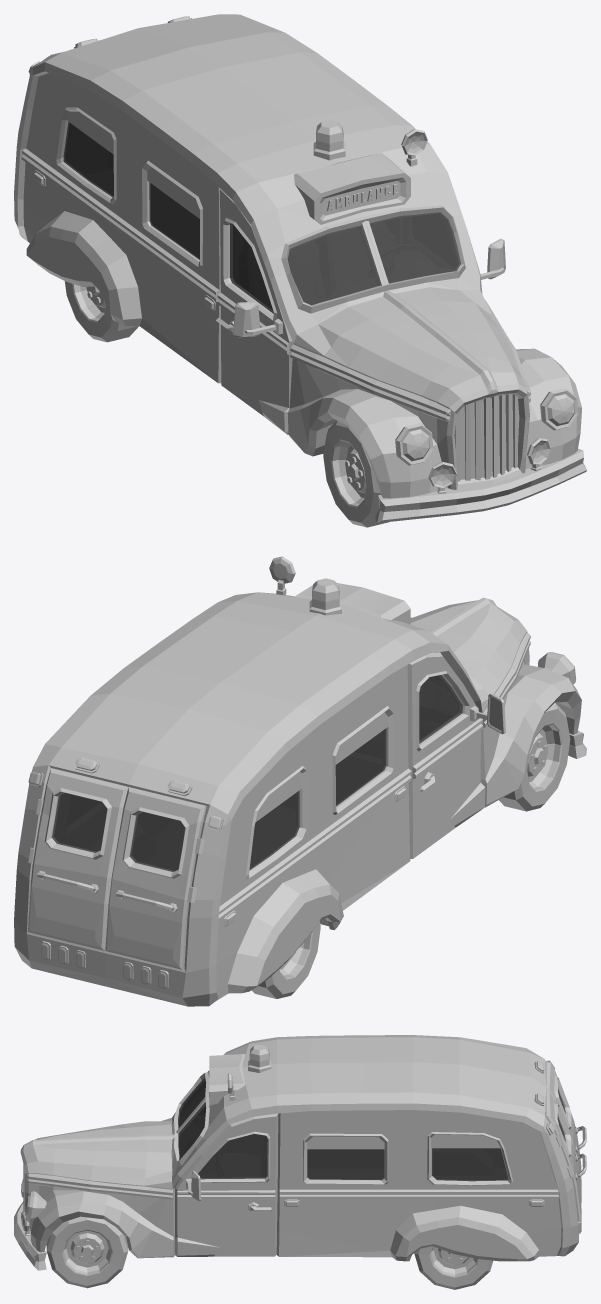
The model's file is SM_Veh_Ambulance_01.fbx.
3 views of the same model, one above another, from view 1: azimuth 30°, elevation 25°; view 2: azimuth 150°, elevation 25°; view 3: azimuth 270°, elevation 25° (orthographic). The views are drawn at different scales.
Parts seen in each view (by area): view 1: SM_Veh_Ambulance_01, SM_Veh_Ambulance_01_Door_FR_Glass_01; view 2: SM_Veh_Ambulance_01, SM_Veh_Ambulance_01_Door_BR_Glass_01, SM_Veh_Ambulance_01_Door_BL_Glass_01, SM_Veh_Ambulance_01_Door_FR_Glass_01; view 3: SM_Veh_Ambulance_01, SM_Veh_Ambulance_01_Door_FL_Glass_01.
Part boxes in pixels (x1,y1,x2,y2): SM_Veh_Ambulance_01: (14,14,586,527); SM_Veh_Ambulance_01_Door_FR_Glass_01: (230,223,273,313); SM_Veh_Ambulance_01: (14,556,586,1006); SM_Veh_Ambulance_01_Door_BR_Glass_01: (130,812,185,871); SM_Veh_Ambulance_01_Door_BL_Glass_01: (52,792,107,852); SM_Veh_Ambulance_01_Door_FR_Glass_01: (419,675,462,743); SM_Veh_Ambulance_01: (14,1035,586,1289); SM_Veh_Ambulance_01_Door_FL_Glass_01: (198,1134,267,1179).
Size of the model in its own units: 250 by 254 by 633.
